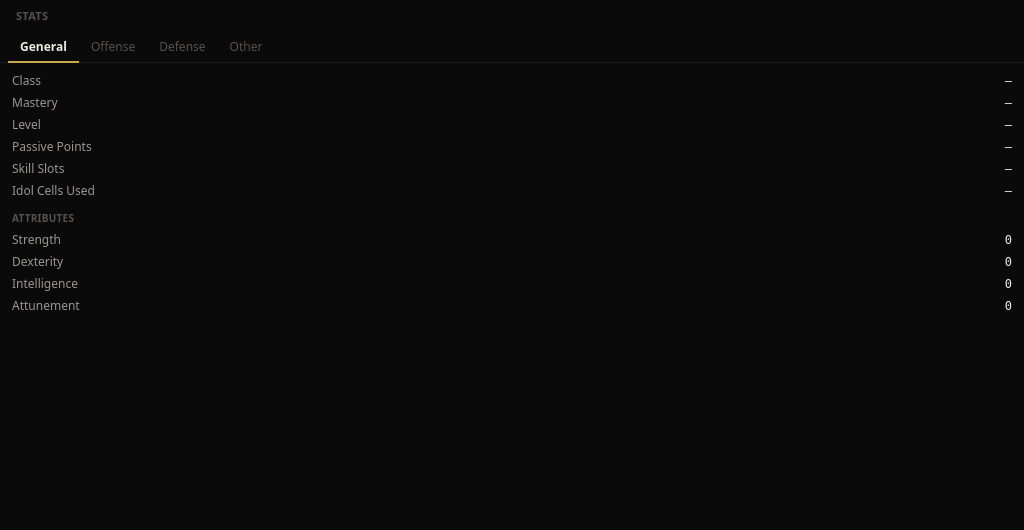
it: StatSheetPanel › shows positive delta on Offense stat when previewStatSheet has higher damage_score
Click the tab "Offense": x=113, y=48 top-left (79, 32), bottom-right (147, 62)
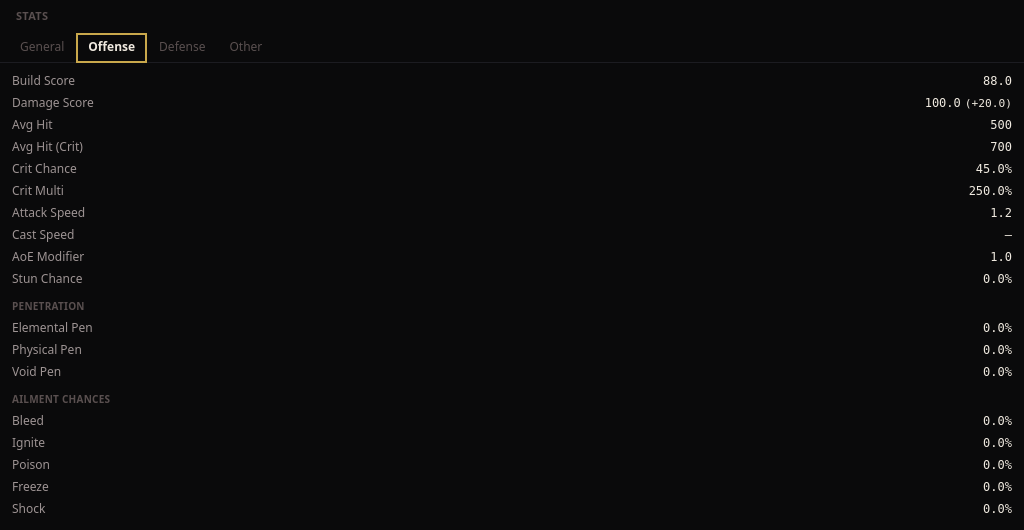
Now the text "(+20.0)" is shown, box top-left (965, 96), bottom-right (1012, 110)
